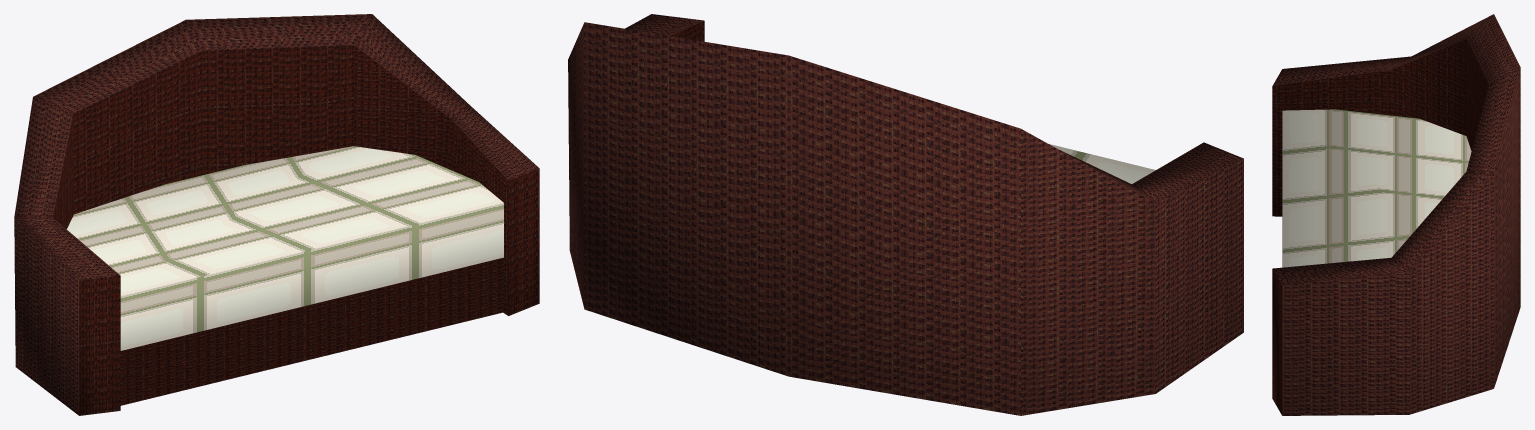
File: 3053IMRL03_04.gltf
3 views of the same model, side by side, from view 1: azimuth 30°, elevation 25°; view 2: azimuth 150°, elevation 25°; view 3: azimuth 270°, elevation 25° (orthographic). The views are drawn at different scales.
Parts seen in each view (by area): view 1: 3053IMRL03_04; view 2: 3053IMRL03_04; view 3: 3053IMRL03_04.
Part boxes in pixels (x1=…): 3053IMRL03_04: x1=14, y1=14, x2=539, y2=415; 3053IMRL03_04: x1=568, y1=14, x2=1243, y2=415; 3053IMRL03_04: x1=1272, y1=14, x2=1520, y2=415.
Size of the model in its own units: 1.93 by 1 by 0.936.
3 materials, 3 textured.
